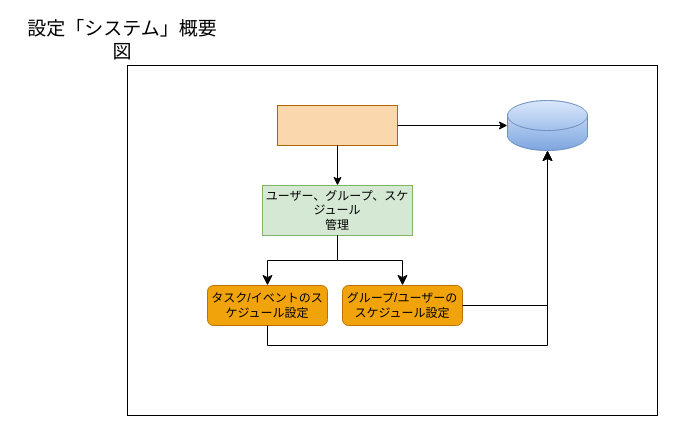
This 675x433 diagram has some shape labels left out. Here are the shapes that lost their labels. From the top down, the centre of each, then its label:
the point at 337,125: Webブラウザ [インターフェイス]
the point at 547,125: データベース
